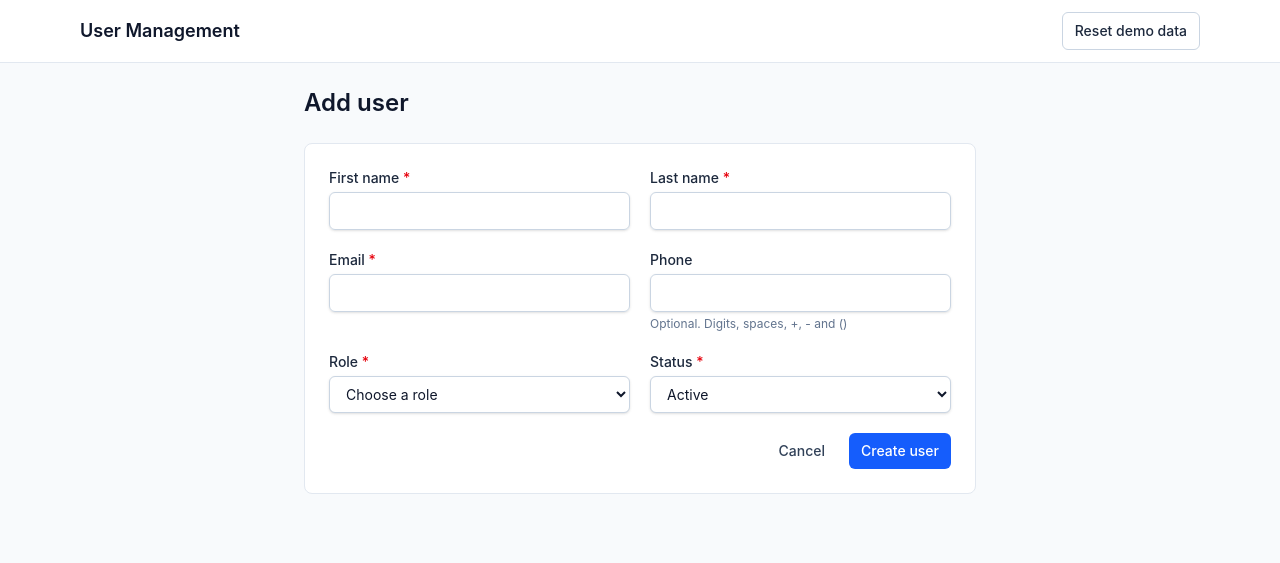
Scenario: CreateUserPage › shows every error on submit and focuses the first invalid field
The width and height of the screenshot is (1280, 563).
Click the button "Create user" at (900, 451), box [849,433,951,469]
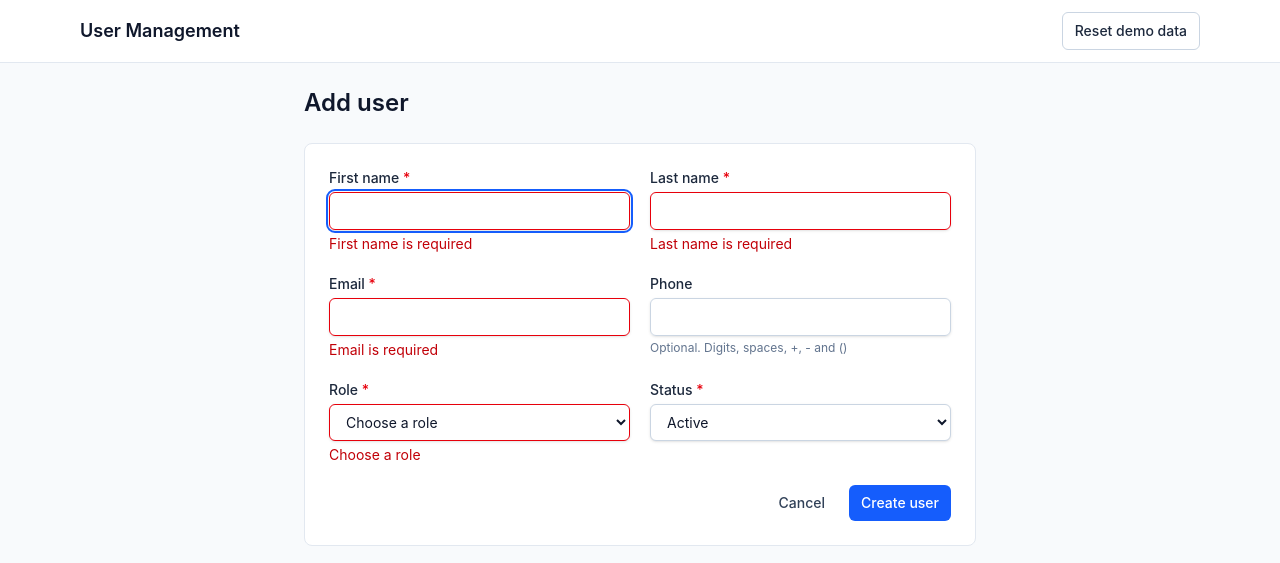
Expected: the text "First name is required" is shown, [329,235,472,252]
Expected: the text "Last name is required" is shown, [650,235,792,252]
Expected: the text "Email is required" is shown, [329,341,438,358]
